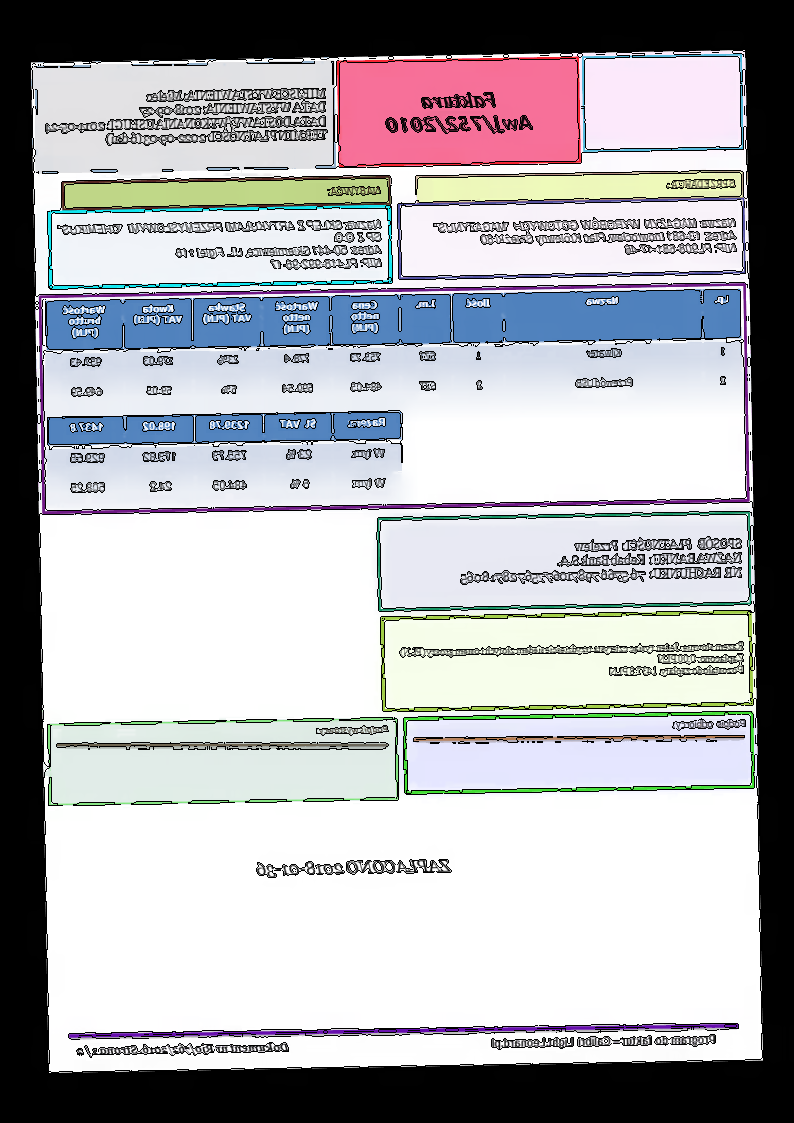Table: (45, 288, 743, 413), (46, 409, 405, 509)
TextBox: (55, 216, 386, 275), (42, 83, 329, 150), (459, 531, 744, 588), (398, 639, 746, 683), (431, 214, 738, 261), (381, 87, 536, 138), (251, 854, 455, 880), (489, 1030, 719, 1052), (74, 1037, 290, 1060), (671, 712, 747, 732), (665, 173, 738, 192), (317, 720, 392, 737), (326, 181, 384, 198)
